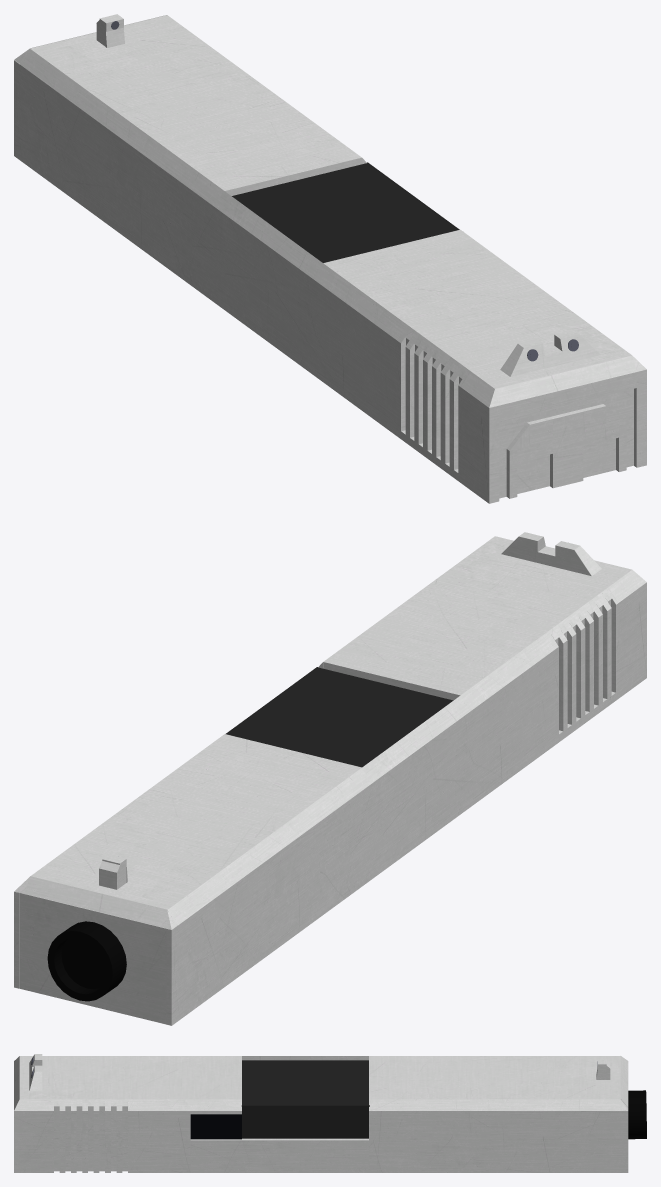
The model's file is Bolt.obj.
The picture shows the model from 3 angles, top to bottom: view 1: azimuth 30°, elevation 25°; view 2: azimuth 150°, elevation 25°; view 3: azimuth 270°, elevation 25°; orthographic projection. The views are drawn at different scales.
Parts seen in each view (by area): view 1: Part18, Part25, Part13, Part21, Wedge32, Part24, Part6, Wedge1, Part20, Part7, Union1, Part31 (+6 smaller); view 2: Part18, Part25, Part13, Part21, Part29, Wedge32, Union2, Part6, Wedge36, Union1, Part12, Part11 (+4 smaller); view 3: Part41, Part25, Part13, Part42, Part21, Part32, Part40, Wedge37, Part24, Part31, Wedge31, Part30 (+13 smaller).
Boxes of the visible parts, <box> form: Part18: <box>14,60,405,438</box>; Part25: <box>30,15,361,195</box>; Part13: <box>323,229,631,388</box>; Part21: <box>232,163,457,262</box>; Wedge32: <box>20,49,410,343</box>; Part24: <box>406,338,633,498</box>; Part6: <box>458,385,499,503</box>; Wedge1: <box>495,355,636,405</box>; Part20: <box>550,409,583,488</box>; Part7: <box>499,372,636,421</box>; Union1: <box>500,330,600,376</box>; Part31: <box>634,369,646,467</box>; Part18: <box>166,647,558,1025</box>; Part25: <box>31,734,361,909</box>; Part13: <box>323,536,631,700</box>; Part21: <box>227,667,453,767</box>; Part29: <box>19,893,166,1024</box>; Wedge32: <box>167,631,558,925</box>; Union2: <box>47,921,126,1001</box>; Part6: <box>611,582,646,700</box>; Wedge36: <box>24,876,166,926</box>; Union1: <box>501,532,601,576</box>; Part12: <box>575,628,585,718</box>; Part11: <box>567,634,576,724</box>; Part41: <box>369,1111,628,1172</box>; Part25: <box>369,1056,620,1099</box>; Part13: <box>19,1056,241,1099</box>; Part42: <box>190,1138,368,1172</box>; Part21: <box>242,1060,368,1104</box>; Part32: <box>241,1105,369,1138</box>; Part40: <box>128,1111,190,1172</box>; Wedge37: <box>369,1099,620,1110</box>; Part24: <box>54,1106,127,1171</box>; Part31: <box>14,1111,53,1172</box>; Wedge31: <box>128,1099,241,1110</box>; Part30: <box>190,1114,241,1139</box>.
Bounding box in the file's own units: 1.55 × 1.25 × 8.33.
